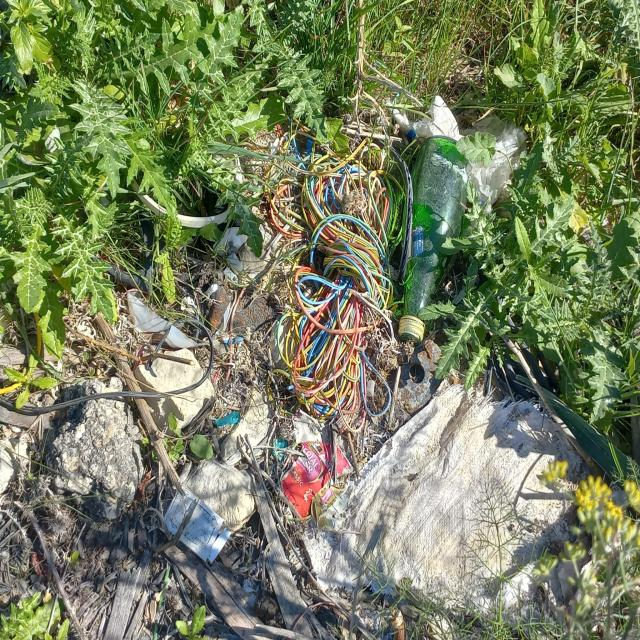Bottle: (398, 134, 470, 347)
Bottle cap: (271, 438, 288, 462)
Carton: (280, 410, 352, 522), (160, 483, 232, 564)
Other litter: (302, 386, 594, 635), (266, 117, 407, 432), (170, 226, 279, 338), (105, 214, 167, 295), (392, 342, 443, 413)
Other plastic: (0, 317, 215, 415), (128, 150, 243, 227), (460, 114, 527, 215), (128, 293, 209, 348), (214, 411, 238, 428), (224, 336, 243, 344)
Styrofoam piece: (387, 96, 465, 143)
Unlabeled litter: (392, 93, 400, 105), (374, 61, 379, 67)
